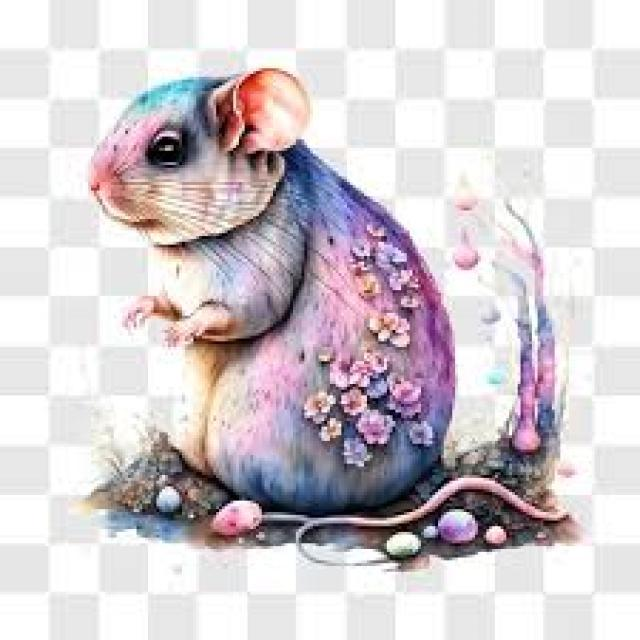Rat: (109, 54, 482, 502)
